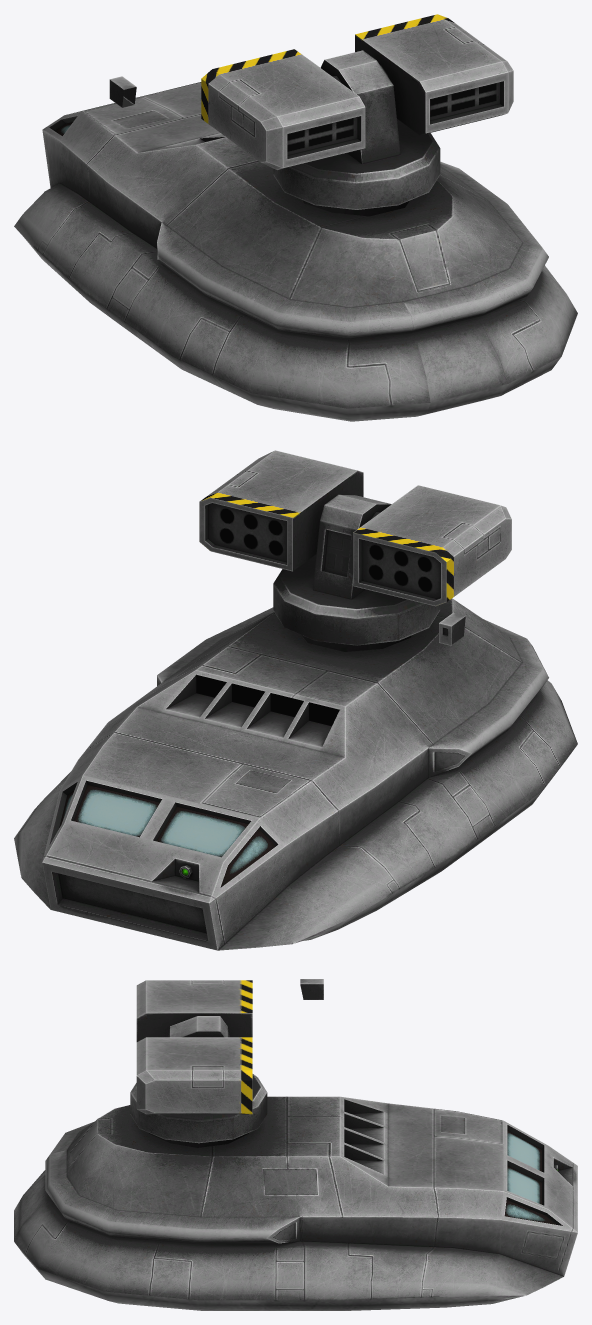
The model's file is Pegasus_exp.FBX.
The picture shows the model from 3 angles, top to bottom: view 1: azimuth 30°, elevation 25°; view 2: azimuth 150°, elevation 25°; view 3: azimuth 270°, elevation 25°; orthographic projection. The views are drawn at different scales.
Visible parts, largest first — view 1: body, launcher_2, turret, launcher_1, tag; view 2: body, launcher_2, launcher_1, turret, tag; view 3: body, launcher_1, launcher_2, turret, tag.
Part boxes in pixels (<box>): body: <box>14,82,577,421</box>; launcher_2: <box>201,49,365,169</box>; turret: <box>273,50,440,209</box>; launcher_1: <box>355,14,513,135</box>; tag: <box>109,76,136,107</box>; body: <box>14,598,577,950</box>; launcher_2: <box>353,485,511,606</box>; launcher_1: <box>199,450,363,571</box>; turret: <box>273,494,440,645</box>; tag: <box>439,612,465,645</box>; body: <box>14,1096,577,1310</box>; launcher_1: <box>136,1037,252,1114</box>; launcher_2: <box>136,980,252,1041</box>; turret: <box>130,1016,267,1143</box>; tag: <box>300,979,323,999</box>.
Size of the model in its own units: 22.44 by 15.98 by 36.
1 material, 1 textured.
